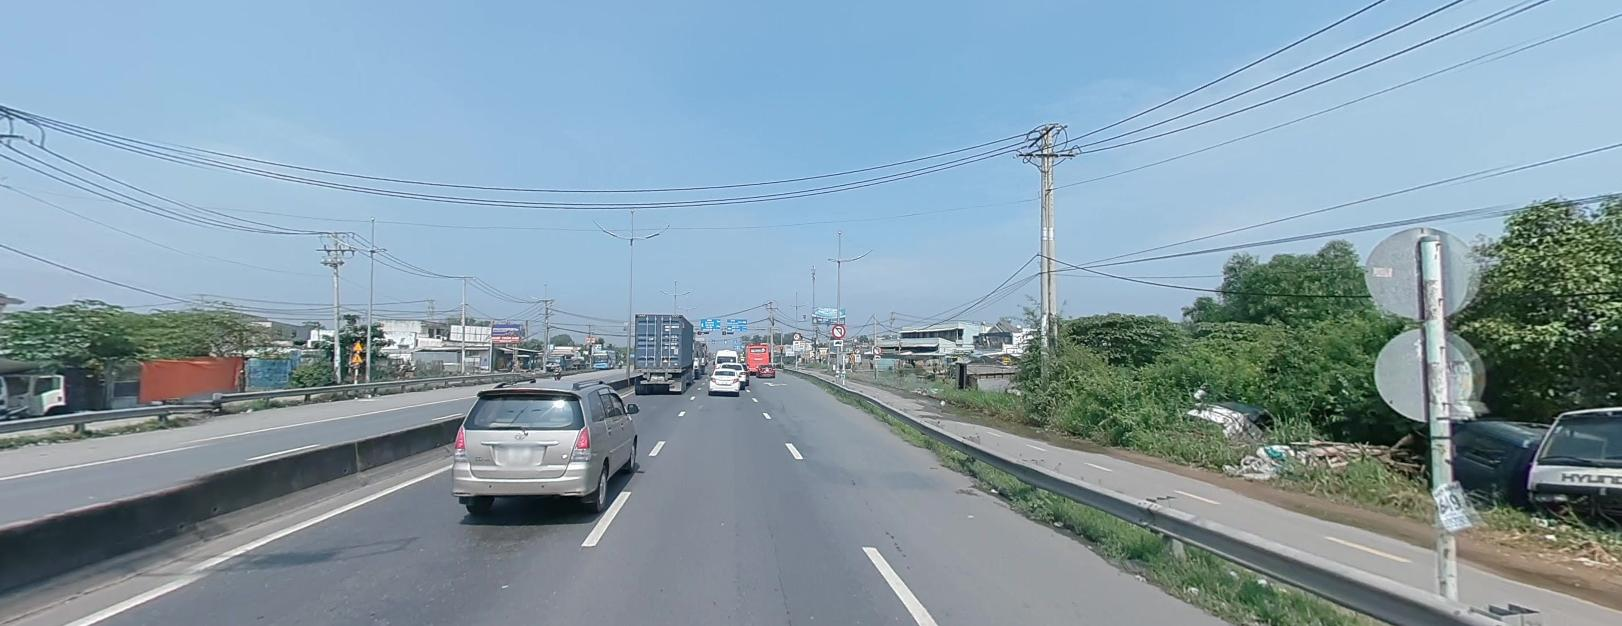Cam re: (832, 323, 845, 337), (872, 344, 881, 353), (793, 331, 800, 338)
Nguy hiem: (849, 357, 854, 361), (849, 352, 853, 357)
